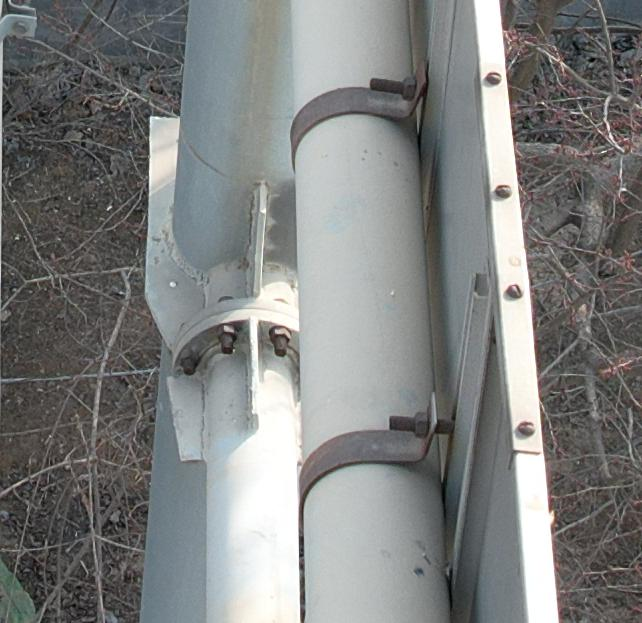bolt_c: (410, 408, 432, 442), (403, 72, 420, 104)
vague: (216, 323, 238, 345), (268, 326, 290, 348), (178, 350, 199, 369)
